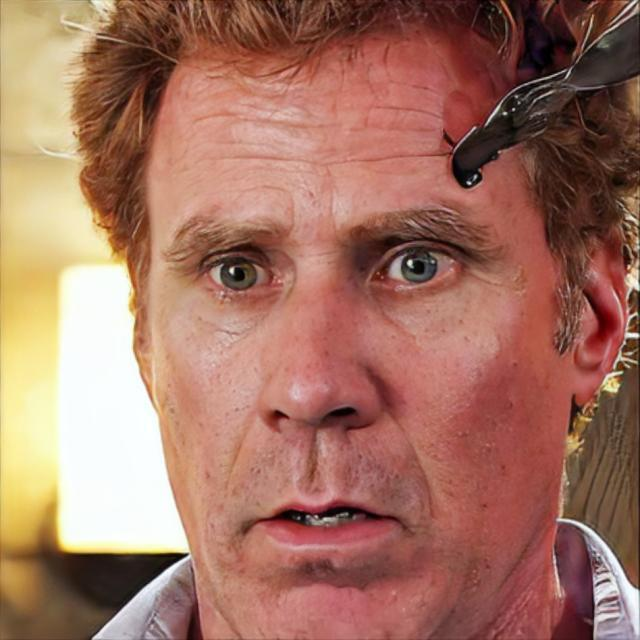fear: (144, 23, 573, 638)
